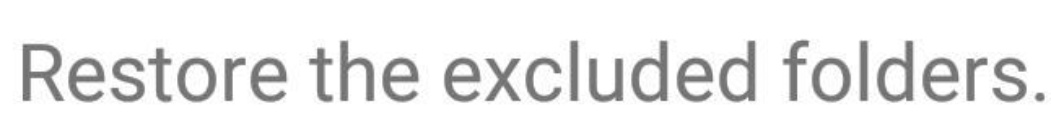TextView: (1, 1, 1050, 139)
